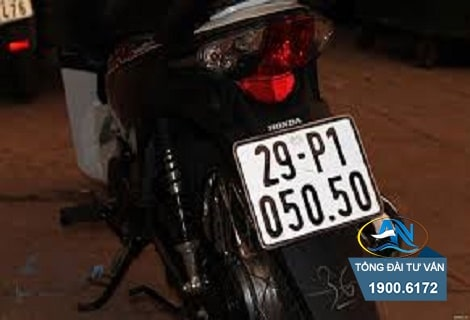bien_so: (229, 108, 386, 254)
